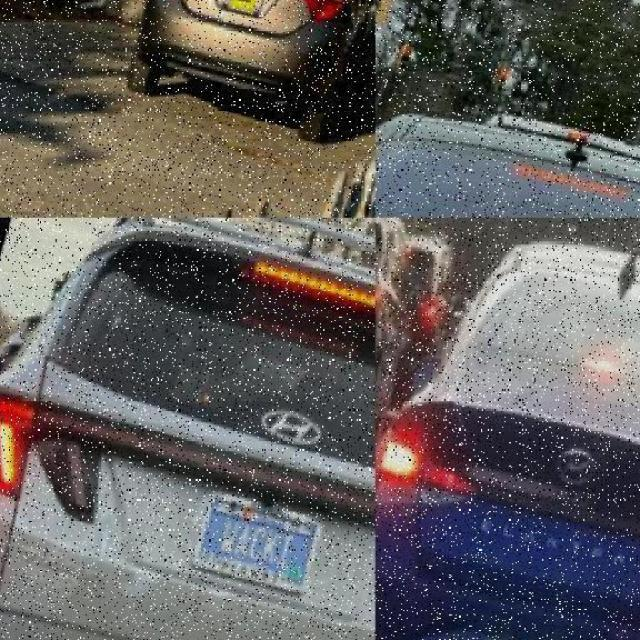license-plate: (178, 498, 336, 582), (200, 0, 293, 33)
